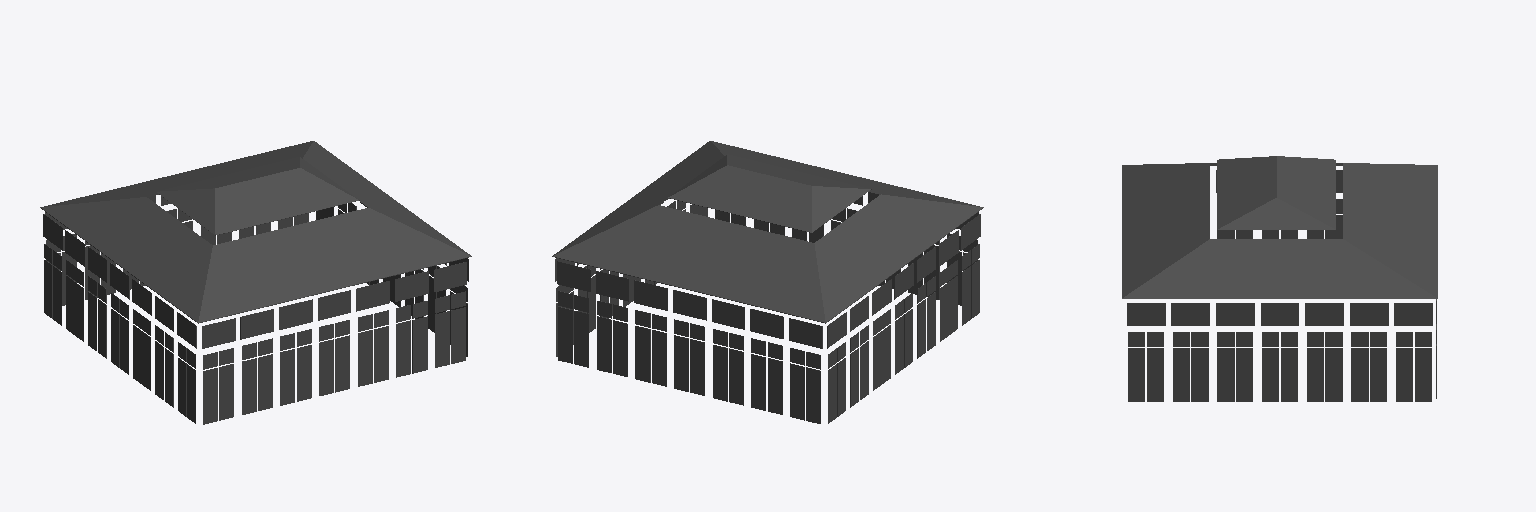
The model's file is building_04.obj.
3 renders of one model, left to right at view 1: azimuth 30°, elevation 25°; view 2: azimuth 150°, elevation 25°; view 3: azimuth 270°, elevation 25°, orthographic.
Visible parts, largest first — view 1: glass_roof; view 2: glass_roof; view 3: glass_roof.
Boxes of the visible parts, <box> form: glass_roof: <box>40,141,471,424</box>; glass_roof: <box>552,141,983,423</box>; glass_roof: <box>1122,156,1437,401</box>.
Bounding box in the file's own units: 14.59 × 8.07 × 14.59.